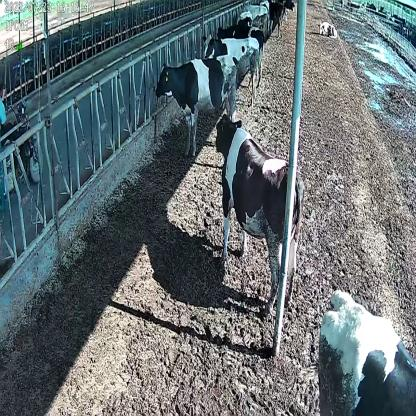cow: (215, 113, 304, 313), (156, 54, 238, 157), (202, 36, 260, 110), (317, 19, 339, 40)
